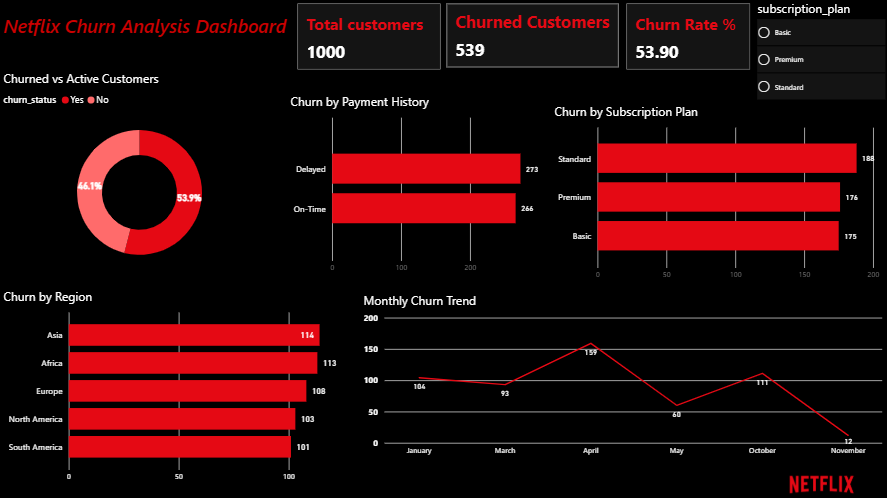

Layout of this report page (visuals, bound fields, positions):
{"tool":"powerbi","page":{"name":"Dashboard","canvas":[1280,720],"ordinal":0},"visuals":[{"type":"cardVisual","fields":{"Data":["netflix_churn_db netflix_churn.Total_customer"]},"box":[420,0,215.7,105.7],"z":0},{"type":"cardVisual","fields":{"Data":["netflix_churn_db netflix_churn.Total_churned"]},"box":[635.7,0,247.1,105.7],"z":1000},{"type":"cardVisual","fields":{"Data":["netflix_churn_db netflix_churn.churn_rate %"]},"box":[882.9,0,188.6,105.7],"z":2000},{"type":"donutChart","title":"Churned vs Active Customers","fields":{"Category":["netflix_churn_db netflix_churn.churn_status"],"Y":["netflix_churn_db netflix_churn.Total_customer"]},"box":[0,82.9,420,274.3],"z":3000},{"type":"clusteredBarChart","title":"Churn by Subscription Plan","fields":{"Y":["netflix_churn_db netflix_churn.Total_churned"],"Category":["netflix_churn_db netflix_churn.subscription_plan"]},"box":[834.3,137.1,445.7,272.9],"z":4000},{"type":"clusteredBarChart","title":"Churn by Region","fields":{"Category":["netflix_churn_db netflix_churn.region"],"Y":["netflix_churn_db netflix_churn.Total_churned"]},"box":[12.9,384.3,458.6,285.7],"z":5000},{"type":"lineChart","title":"Monthly Churn Trend","fields":{"Category":["netflix_churn_db netflix_churn.join_date.Variation.Date Hierarchy.Month"],"Y":["netflix_churn_db netflix_churn.Total_churned"]},"box":[555.7,444.3,712.9,222.9],"z":6000},{"type":"clusteredBarChart","title":"Churn by Payment History","fields":{"Category":["netflix_churn_db netflix_churn.payment_history"],"Y":["netflix_churn_db netflix_churn.Total_churned"]},"box":[453.3,123.3,343.3,273.3],"z":7000},{"type":"listSlicer","fields":{"Values":["netflix_churn_db netflix_churn.subscription_plan"]},"box":[1071.4,0,208.6,125.7],"z":8000},{"type":"textbox","box":[0,0,420,81.4],"z":9000}]}

Visuals, with their boxes in screenshot pixels (x1, y1, x2, y2), scaled from the page's 1280x720 canvas onto the 887x498 screenshot:
cardVisual - netflix_churn_db netflix_churn.Total_customer: {"left": 291, "top": 0, "right": 441, "bottom": 73}
cardVisual - netflix_churn_db netflix_churn.Total_churned: {"left": 441, "top": 0, "right": 612, "bottom": 73}
cardVisual - netflix_churn_db netflix_churn.churn_rate %: {"left": 612, "top": 0, "right": 743, "bottom": 73}
"Churned vs Active Customers" donutChart: {"left": 0, "top": 57, "right": 291, "bottom": 247}
"Churn by Subscription Plan" clusteredBarChart: {"left": 578, "top": 95, "right": 886, "bottom": 284}
"Churn by Region" clusteredBarChart: {"left": 9, "top": 266, "right": 327, "bottom": 463}
"Monthly Churn Trend" lineChart: {"left": 385, "top": 307, "right": 879, "bottom": 461}
"Churn by Payment History" clusteredBarChart: {"left": 314, "top": 85, "right": 552, "bottom": 274}
listSlicer - netflix_churn_db netflix_churn.subscription_plan: {"left": 742, "top": 0, "right": 886, "bottom": 87}
textbox: {"left": 0, "top": 0, "right": 291, "bottom": 56}
